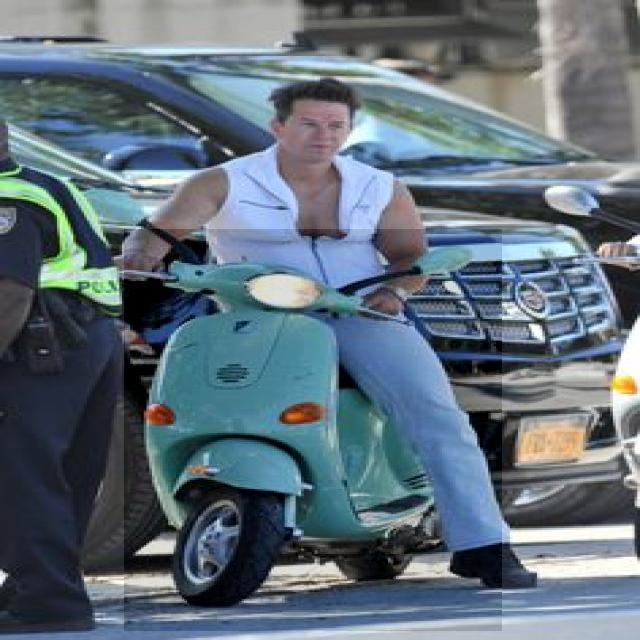Bike: (124, 229, 502, 632)
